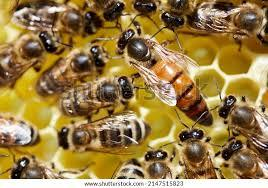Queen-Bee: (114, 19, 215, 127)
worker-bee: (34, 42, 112, 102), (49, 119, 160, 151), (55, 74, 136, 116), (211, 88, 268, 147), (0, 24, 53, 86), (167, 127, 218, 188), (216, 138, 266, 178)
